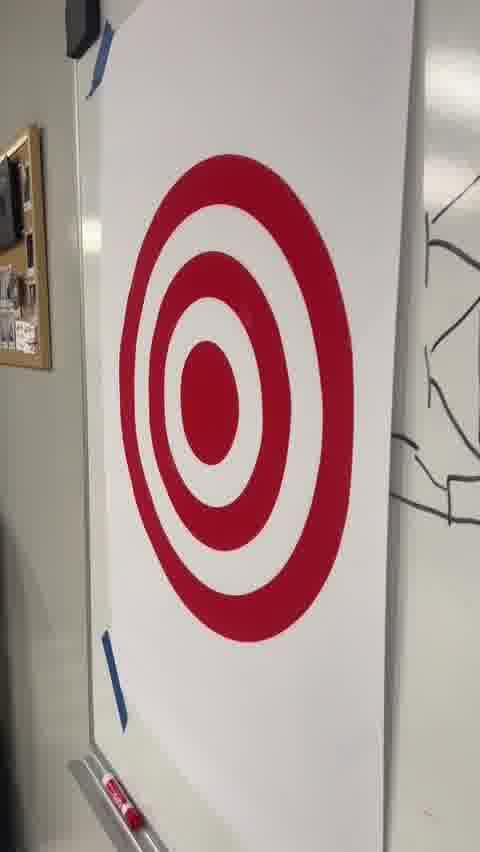target_red: (116, 155, 356, 645)
